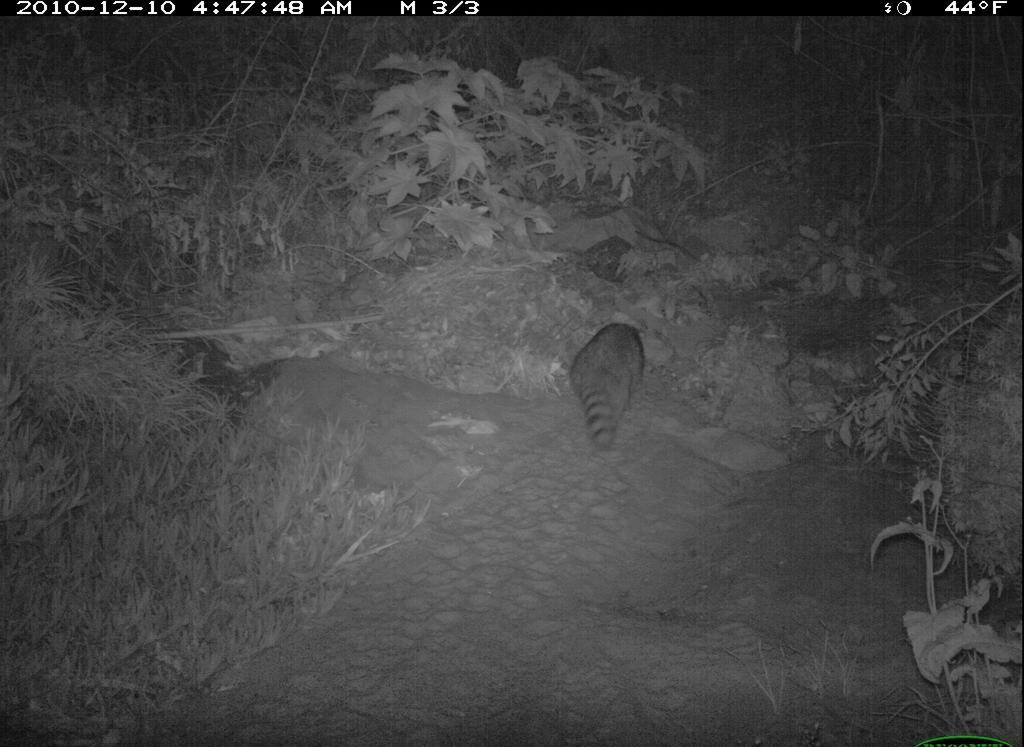raccoon: (570, 318, 656, 457)
